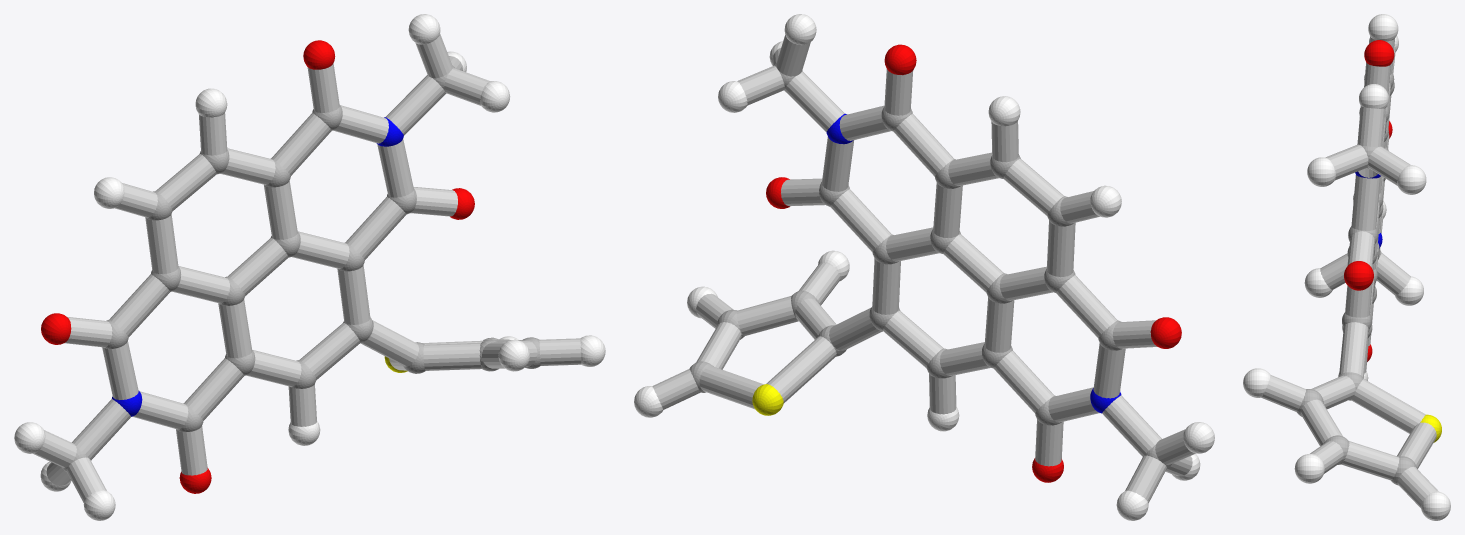
File: Dimethyl_Naphthalene_Dicarboximide_Phi_25_Theta_70_Thiophene.glb
3 renders of one model, left to right at view 1: azimuth 30°, elevation 25°; view 2: azimuth 150°, elevation 25°; view 3: azimuth 270°, elevation 25°, orthographic. The views are drawn at different scales.
Visible parts, largest first — view 1: grp14119, grp7241, grp1, grp12309, grp11585; view 2: grp14119, grp7241, grp1, grp12309, grp13757, grp11585; view 3: grp14119, grp7241, grp1, grp12309, grp13757.
Boxes of the visible parts, box(x1,y1,x2,y2) form: grp14119: box(33, 34, 581, 502); grp7241: box(14, 14, 605, 520); grp1: box(61, 65, 540, 471); grp12309: box(41, 40, 474, 493); grp11585: box(112, 117, 403, 416); grp14119: box(652, 35, 1195, 503); grp7241: box(634, 14, 1214, 520); grp1: box(689, 63, 1171, 468); grp12309: box(766, 44, 1181, 482); grp13757: box(752, 384, 783, 415); grp11585: box(826, 113, 1121, 413); grp14119: box(1261, 36, 1438, 507); grp7241: box(1243, 14, 1450, 520); grp1: box(1296, 72, 1416, 485); grp12309: box(1344, 40, 1394, 361); grp13757: box(1420, 414, 1441, 442).
Bounding box in the file's own units: 12.04 × 8.56 × 4.15.
